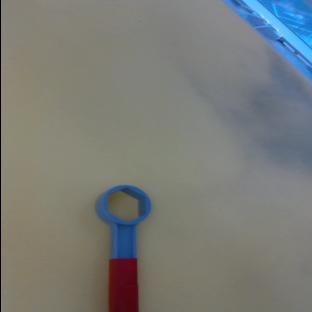part_3_good: (82, 182, 151, 312)
